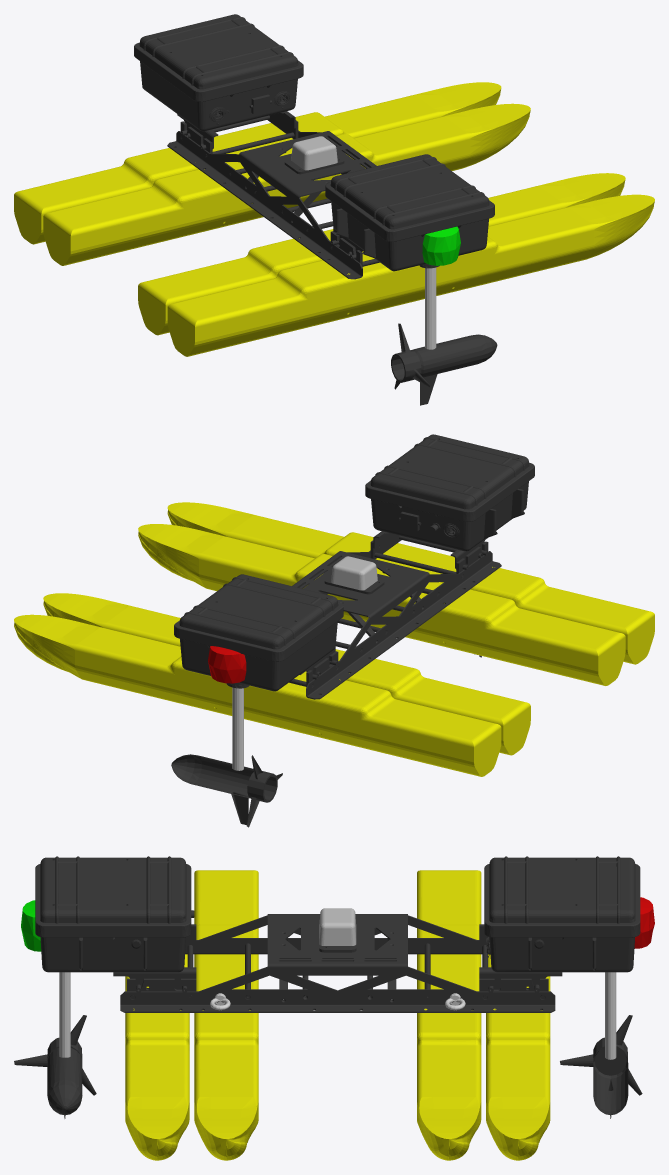
File: kingfisher.dae
3 renders of one model, top to bottom at view 1: azimuth 30°, elevation 25°; view 2: azimuth 150°, elevation 25°; view 3: azimuth 270°, elevation 25°, orthographic. The views are drawn at different scales.
Visible parts, largest first — view 1: matte_black; view 2: matte_black; view 3: matte_black.
Part boxes in pixels (bbox=[...]): matte_black: bbox=[14, 14, 654, 405]; matte_black: bbox=[14, 434, 654, 827]; matte_black: bbox=[14, 856, 654, 1160].
Size of the model in its own units: 1.27 by 1.27 by 0.52.
